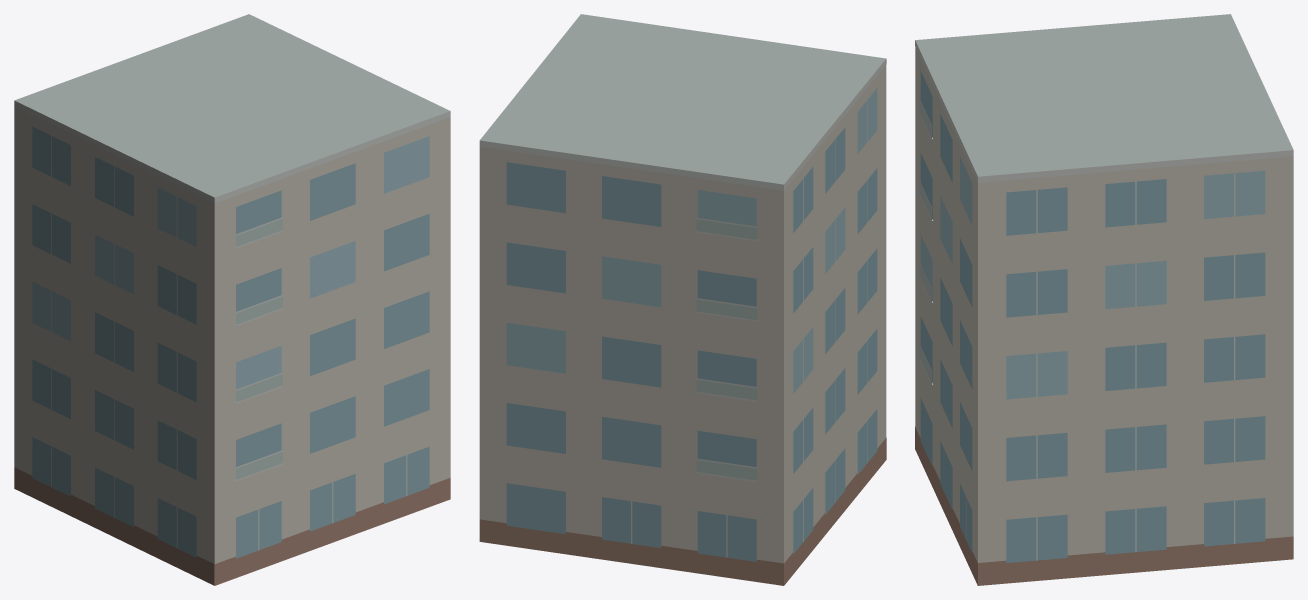
Rendered from survey-upis-32724619.glb.
The picture shows the model from 3 angles, left to right: view 1: azimuth 30°, elevation 25°; view 2: azimuth 150°, elevation 25°; view 3: azimuth 270°, elevation 25°; orthographic projection. The views are drawn at different scales.
Visible parts, largest first — view 1: survey-upis-32724619.tmp; view 2: survey-upis-32724619.tmp; view 3: survey-upis-32724619.tmp.
Boxes of the visible parts, x1=… form: survey-upis-32724619.tmp: x1=14, y1=14, x2=450, y2=585; survey-upis-32724619.tmp: x1=479, y1=14, x2=886, y2=585; survey-upis-32724619.tmp: x1=915, y1=14, x2=1293, y2=585.
Size of the model in its own units: 13.76 by 16.12 by 13.53.
